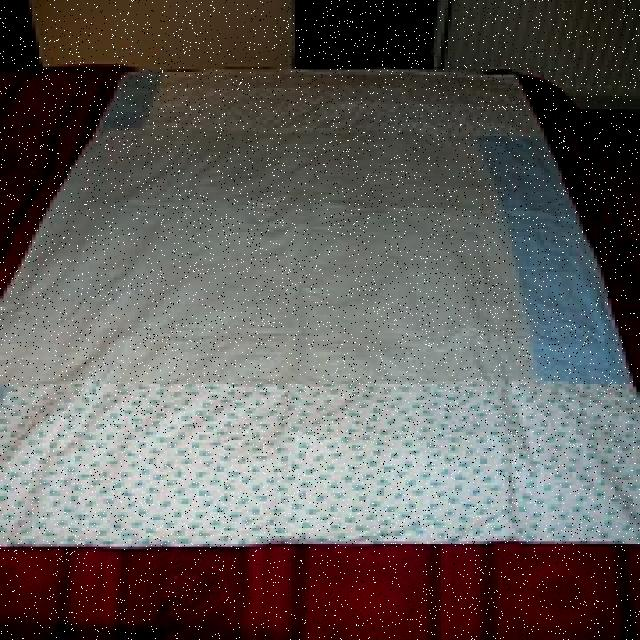bed: (0, 65, 640, 637)
